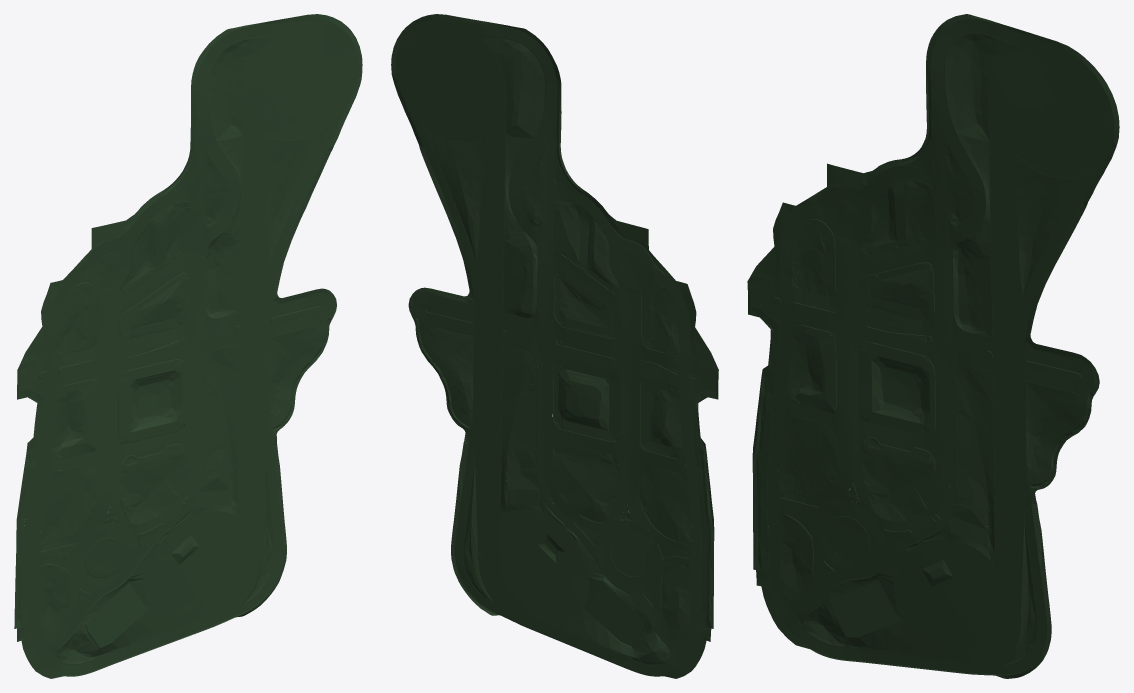
File: Mcity_scene.obj
3 views of the same model, side by side, from view 1: azimuth 30°, elevation 25°; view 2: azimuth 150°, elevation 25°; view 3: azimuth 330°, elevation 25° (orthographic). The views are drawn at different scales.
Bounding box in the file's own units: 229 × 399 × 14.34.
